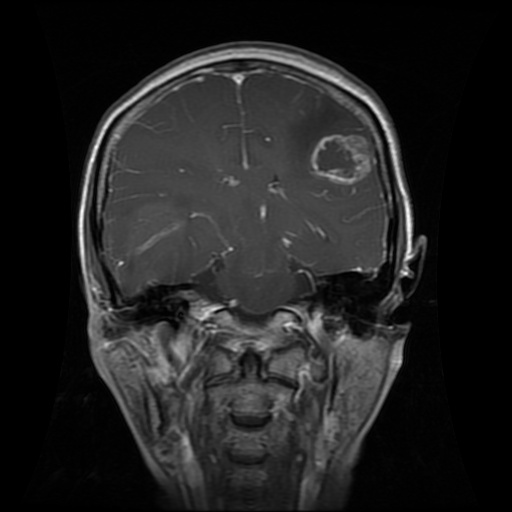glioma: (291, 95, 370, 183)
